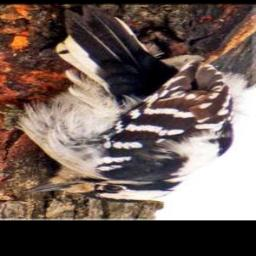Woodpecker: (0, 5, 250, 207)
